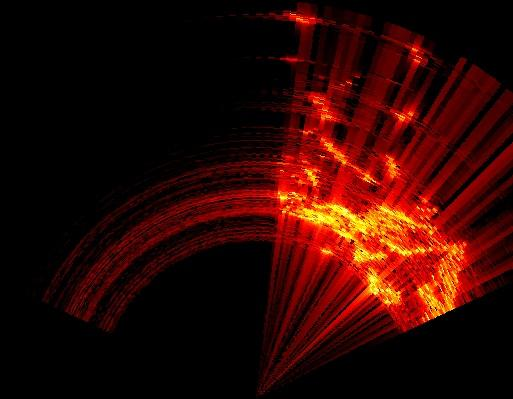shipwreck: (292, 203, 434, 268), (419, 242, 464, 319), (364, 268, 398, 304), (278, 191, 306, 204), (299, 169, 317, 187)
